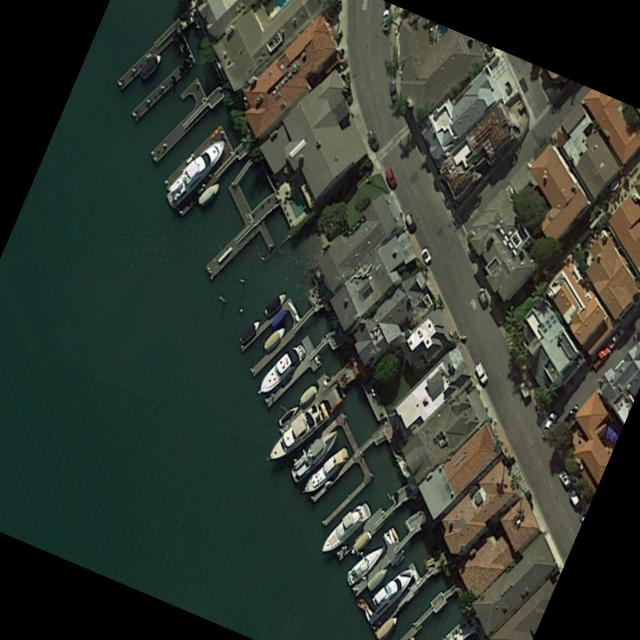ship: (164, 131, 227, 207), (265, 397, 328, 469), (362, 558, 414, 623), (253, 337, 306, 399), (317, 497, 370, 559), (288, 424, 340, 485), (301, 442, 350, 498), (343, 539, 384, 586), (262, 321, 286, 352), (137, 50, 161, 81), (364, 562, 388, 592), (263, 287, 286, 318), (374, 611, 398, 640), (237, 315, 260, 343), (196, 178, 219, 206), (349, 527, 371, 556), (277, 400, 299, 427), (297, 381, 318, 407), (269, 304, 288, 328), (355, 596, 369, 611), (405, 632, 416, 640)
small-vehicle: (590, 342, 610, 367), (606, 323, 625, 347), (473, 358, 488, 384), (541, 410, 557, 433), (475, 283, 489, 309), (562, 402, 578, 423), (515, 376, 530, 398), (383, 165, 397, 188), (365, 126, 378, 150), (557, 466, 571, 488), (419, 244, 431, 264), (387, 78, 397, 100), (404, 211, 415, 228), (381, 7, 389, 29), (632, 324, 640, 341)
